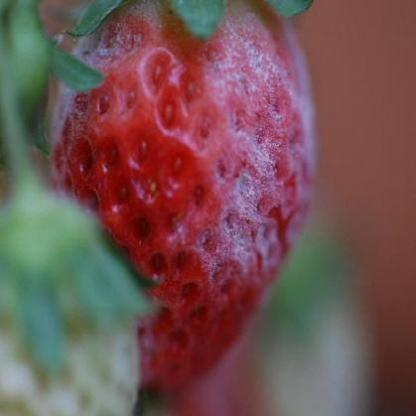Strawberry_Powdery_Mildew_Fruit: (22, 0, 315, 305)
